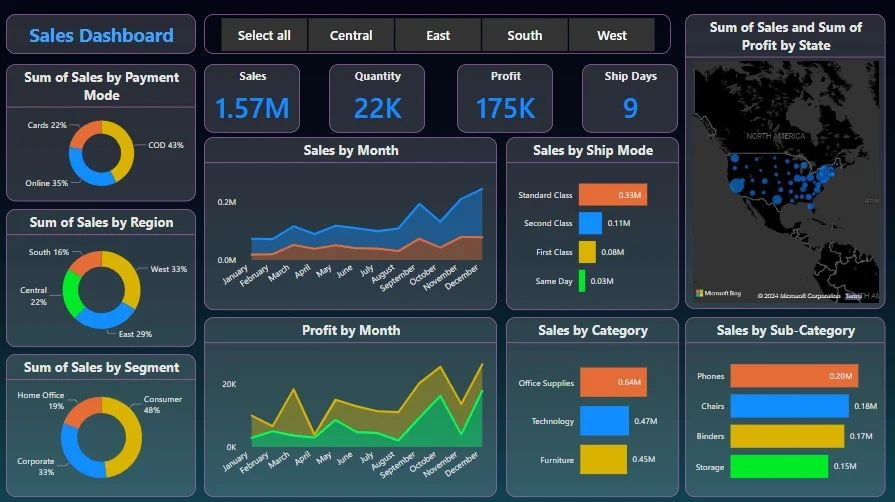

This screenshot's page, from the dashboard's own definition file:
{"tool":"powerbi","page":{"name":"Page 1","canvas":[1280,720],"ordinal":0},"visuals":[{"type":"clusteredBarChart","title":"Sales by Category","fields":{"Category":["SuperStore_Sales_Dataset.Category"],"Y":["Sum(SuperStore_Sales_Dataset.Sales)"]},"box":[722.8,453.5,246.6,256.5],"z":0},{"type":"clusteredBarChart","title":"Sales by Sub-Category","fields":{"Category":["SuperStore_Sales_Dataset.Sub-Category"],"Y":["Sum(SuperStore_Sales_Dataset.Sales)"]},"box":[979.4,453.5,286.3,256.5],"z":1000},{"type":"clusteredBarChart","title":"Sales by Ship Mode","fields":{"Category":["SuperStore_Sales_Dataset.Ship Mode"],"Y":["Sum(SuperStore_Sales_Dataset.Sales)"]},"box":[722.8,197,246.6,246.6],"z":2000},{"type":"card","title":"Sales","fields":{"Values":["Sum(SuperStore_Sales_Dataset.Sales)"]},"box":[292,92.1,137.5,97.8],"z":3000},{"type":"stackedAreaChart","title":"Sales by Month","fields":{"Category":["SuperStore_Sales_Dataset.Order Date.Variation.Date Hierarchy.Month","SuperStore_Sales_Dataset.Order Date.Variation.Date Hierarchy.Day"],"Series":["SuperStore_Sales_Dataset.Order Date.Variation.Date Hierarchy.Year"],"Y":["Sum(SuperStore_Sales_Dataset.Sales)"]},"box":[292,197,418.1,246.6],"z":4000},{"type":"map","fields":{"Category":["SuperStore_Sales_Dataset.State"],"Size":["Sum(SuperStore_Sales_Dataset.Sales)"]},"box":[979.4,21.3,286.3,420.9],"z":5000},{"type":"donutChart","fields":{"Category":["SuperStore_Sales_Dataset.Segment"],"Y":["Sum(SuperStore_Sales_Dataset.Sales)"]},"box":[9.9,506,270.7,204.1],"z":6000},{"type":"donutChart","fields":{"Category":["SuperStore_Sales_Dataset.Payment Mode"],"Y":["Sum(SuperStore_Sales_Dataset.Sales)"]},"box":[9.9,92.1,270.7,195.6],"z":7000},{"type":"donutChart","fields":{"Category":["SuperStore_Sales_Dataset.Region"],"Y":["Sum(SuperStore_Sales_Dataset.Sales)"]},"box":[9.9,299.1,270.7,197],"z":8000},{"type":"slicer","fields":{"Values":["SuperStore_Sales_Dataset.Region"]},"box":[292,21.3,666.1,56.7],"z":9000},{"type":"textbox","box":[9.9,21.3,270.7,56.7],"z":10000},{"type":"card","title":"Quantity","fields":{"Values":["Sum(SuperStore_Sales_Dataset.Quantity)"]},"box":[470.6,92.1,137.5,97.8],"z":11000},{"type":"card","title":"Profit","fields":{"Values":["Sum(SuperStore_Sales_Dataset.Profit)"]},"box":[653.4,92.1,137.5,97.8],"z":12000},{"type":"card","title":"Ship Days","fields":{"Values":["Count(SuperStore_Sales_Dataset.Average Delivery)"]},"box":[832,92.1,137.5,97.8],"z":13000},{"type":"stackedAreaChart","title":"Profit by Month","fields":{"Category":["SuperStore_Sales_Dataset.Order Date.Variation.Date Hierarchy.Month","SuperStore_Sales_Dataset.Order Date.Variation.Date Hierarchy.Day"],"Series":["SuperStore_Sales_Dataset.Order Date.Variation.Date Hierarchy.Year"],"Y":["Sum(SuperStore_Sales_Dataset.Profit)"]},"box":[292,453.5,418.1,256.5],"z":14000}]}

Visuals, with their boxes in screenshot pixels (x1, y1, x2, y2), scaled from the page's 1280x720 canvas onto the 895x502 screenshot:
"Sales by Category" clusteredBarChart: {"left": 505, "top": 316, "right": 678, "bottom": 495}
"Sales by Sub-Category" clusteredBarChart: {"left": 685, "top": 316, "right": 885, "bottom": 495}
"Sales by Ship Mode" clusteredBarChart: {"left": 505, "top": 137, "right": 678, "bottom": 309}
"Sales" card: {"left": 204, "top": 64, "right": 300, "bottom": 132}
"Sales by Month" stackedAreaChart: {"left": 204, "top": 137, "right": 497, "bottom": 309}
map - SuperStore_Sales_Dataset.State x Sum(SuperStore_Sales_Dataset.Sales): {"left": 685, "top": 15, "right": 885, "bottom": 308}
donutChart - SuperStore_Sales_Dataset.Segment x Sum(SuperStore_Sales_Dataset.Sales): {"left": 7, "top": 353, "right": 196, "bottom": 495}
donutChart - SuperStore_Sales_Dataset.Payment Mode x Sum(SuperStore_Sales_Dataset.Sales): {"left": 7, "top": 64, "right": 196, "bottom": 201}
donutChart - SuperStore_Sales_Dataset.Region x Sum(SuperStore_Sales_Dataset.Sales): {"left": 7, "top": 209, "right": 196, "bottom": 346}
slicer - SuperStore_Sales_Dataset.Region: {"left": 204, "top": 15, "right": 670, "bottom": 54}
textbox: {"left": 7, "top": 15, "right": 196, "bottom": 54}
"Quantity" card: {"left": 329, "top": 64, "right": 425, "bottom": 132}
"Profit" card: {"left": 457, "top": 64, "right": 553, "bottom": 132}
"Ship Days" card: {"left": 582, "top": 64, "right": 678, "bottom": 132}
"Profit by Month" stackedAreaChart: {"left": 204, "top": 316, "right": 497, "bottom": 495}
